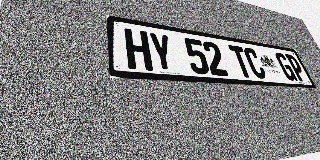2: (201, 40, 229, 76)
5: (183, 38, 211, 75)
C: (242, 47, 268, 79)
G: (274, 52, 298, 81)
H: (124, 28, 153, 71)
P: (285, 54, 308, 82)
T: (228, 45, 254, 78)
Y: (148, 32, 176, 72)
